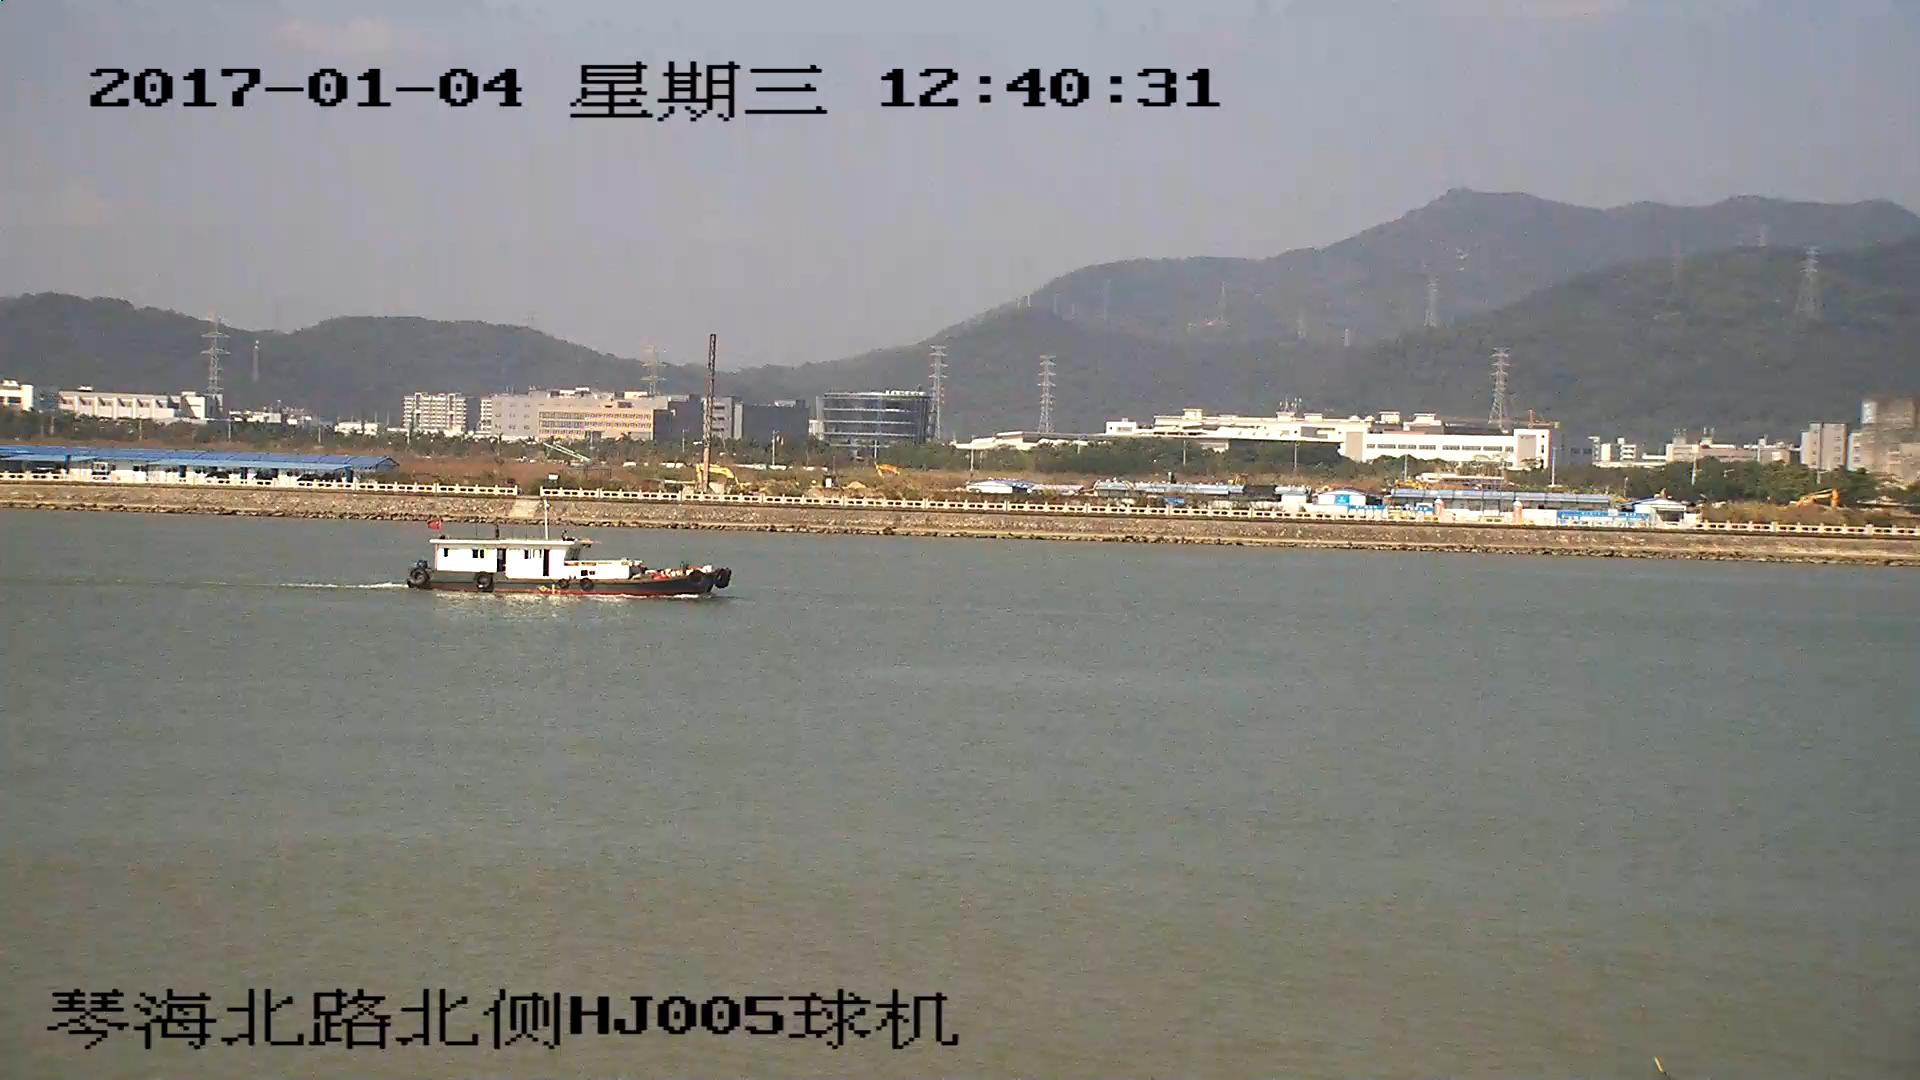fishing boat: (405, 507, 731, 597)
